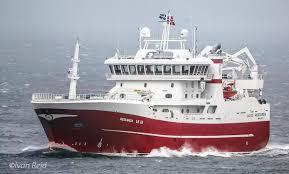Ship: (34, 13, 271, 154)
